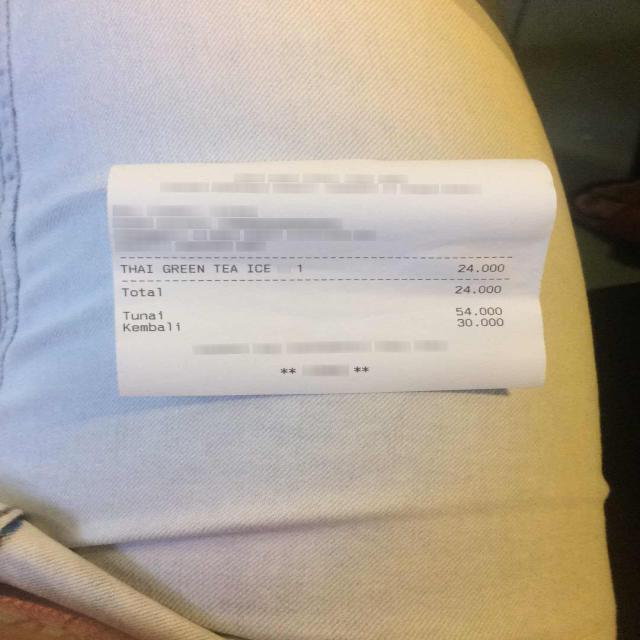kertas: (106, 156, 559, 398)
